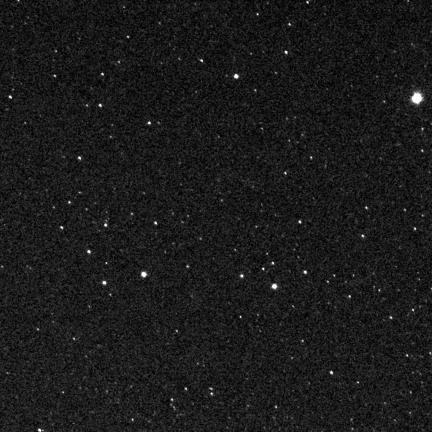blob: (412, 93, 422, 104), (141, 272, 147, 278), (272, 284, 277, 289)
